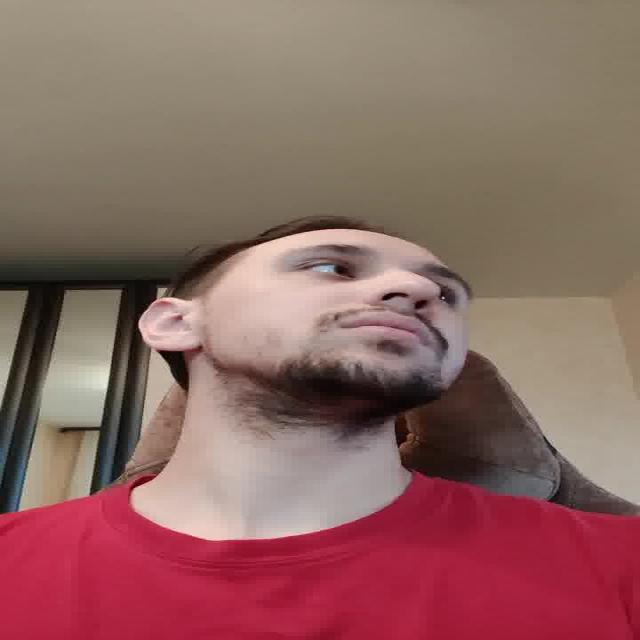earlobe: (140, 297, 202, 354)
